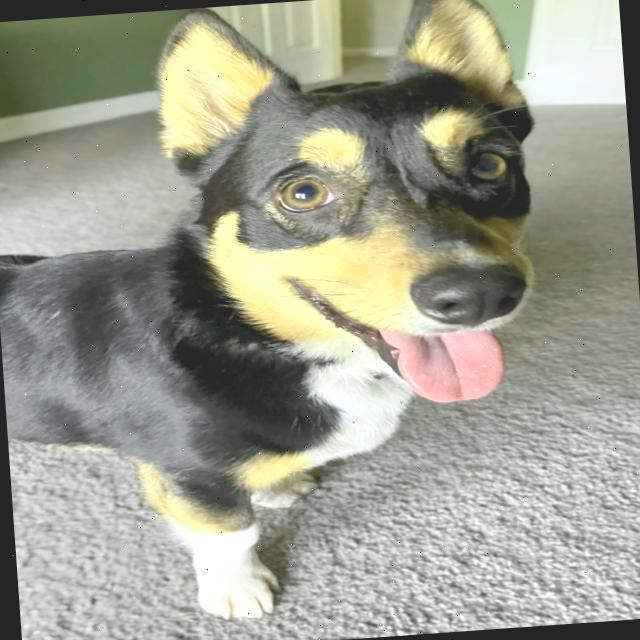corgi_dog: (129, 0, 580, 433)
